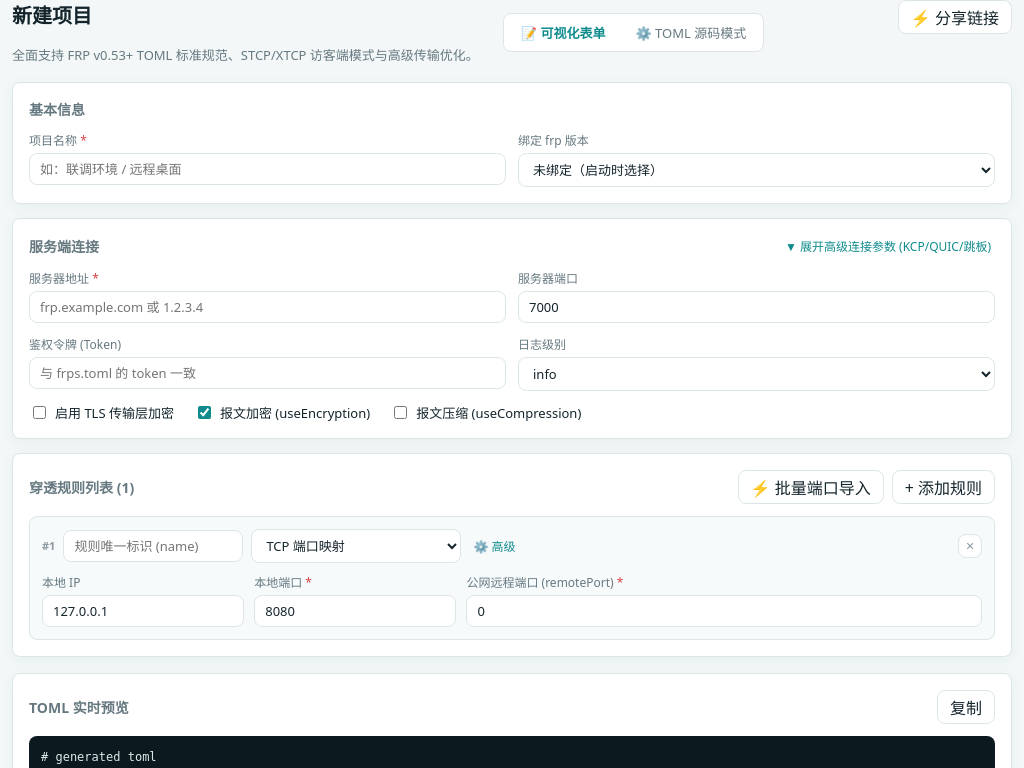
Test: FrpcProjectEditor 批量端口 › 区间跨度 >100 拒绝
Click the button "⚡ 批量端口导入" at (811,487), box [738, 470, 884, 504]
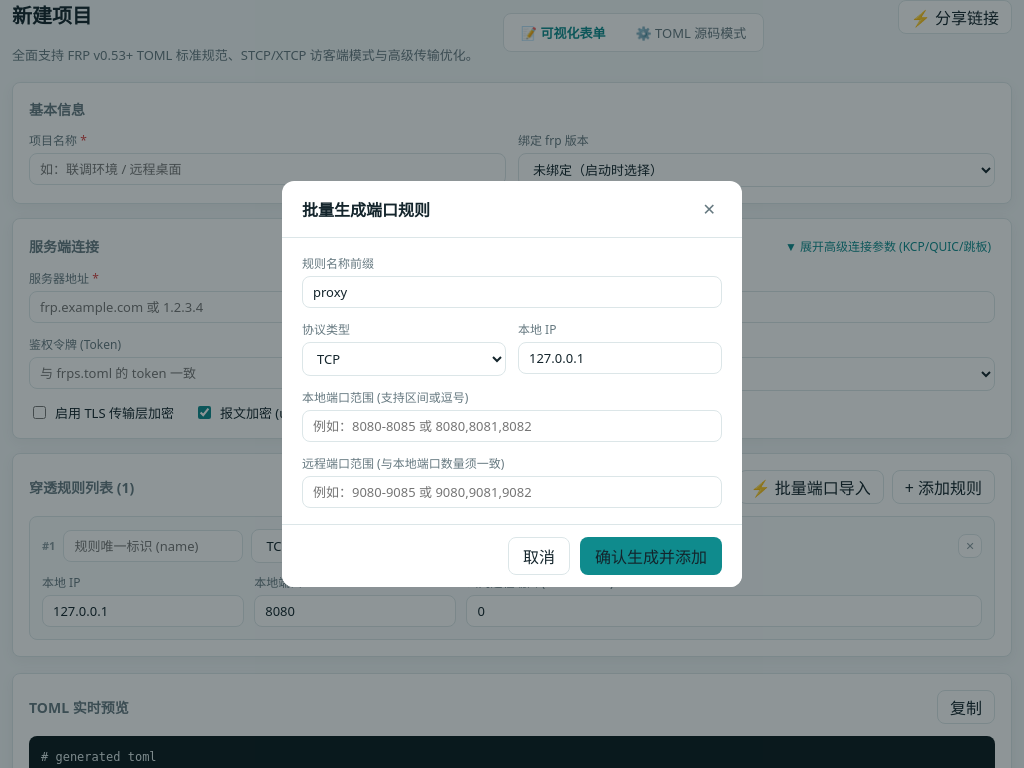
Type "1000-1200" into the field labelled "本地端口范围 (支持区间或逗号)" at (512,426), box [302, 410, 722, 442]
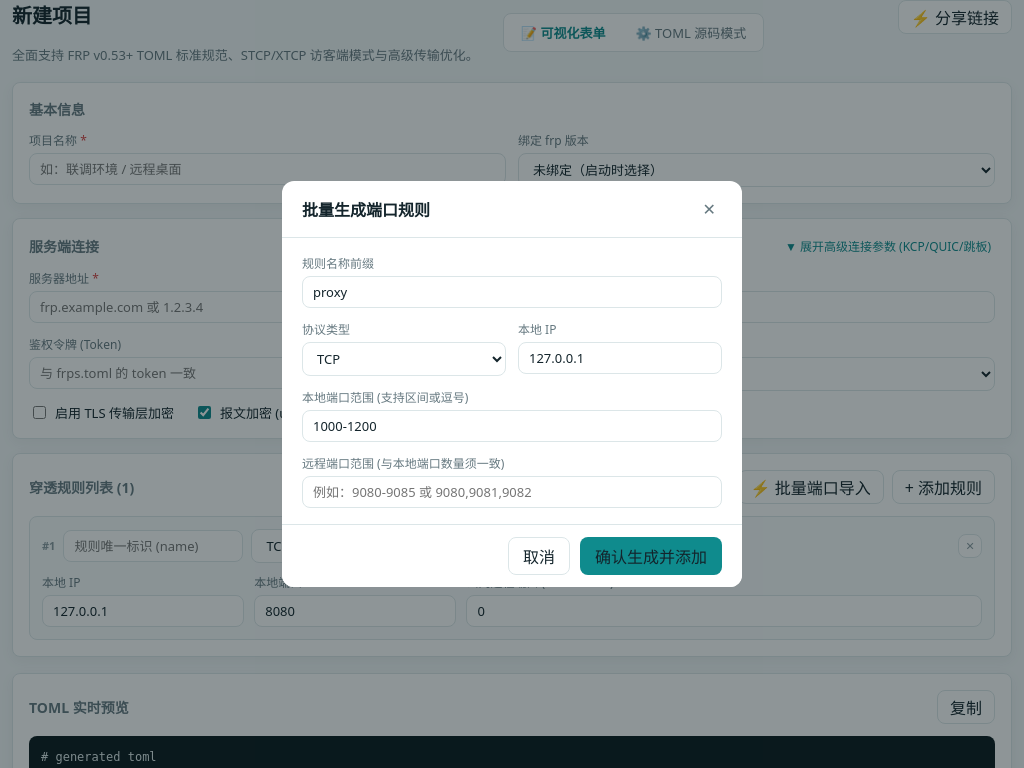
Type "2000-2200" into the field labelled "远程端口范围 (与本地端口数量须一致)" at (512,492), box [302, 476, 722, 508]
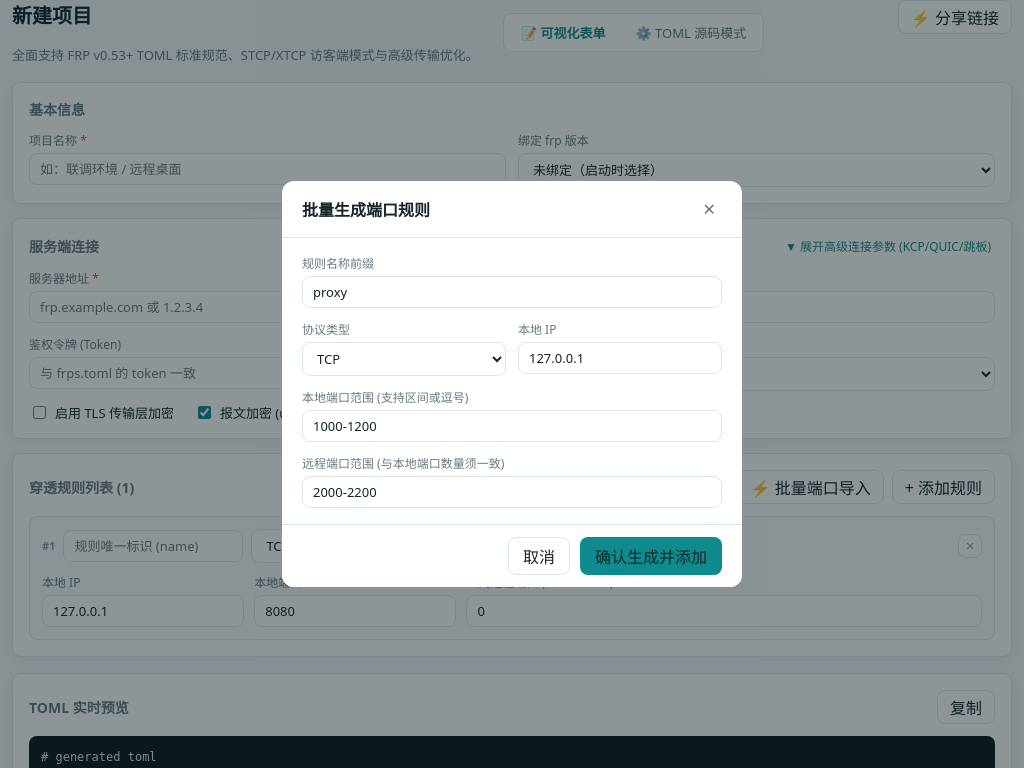
Click the button "确认生成并添加" at (651,556), box [580, 537, 722, 575]
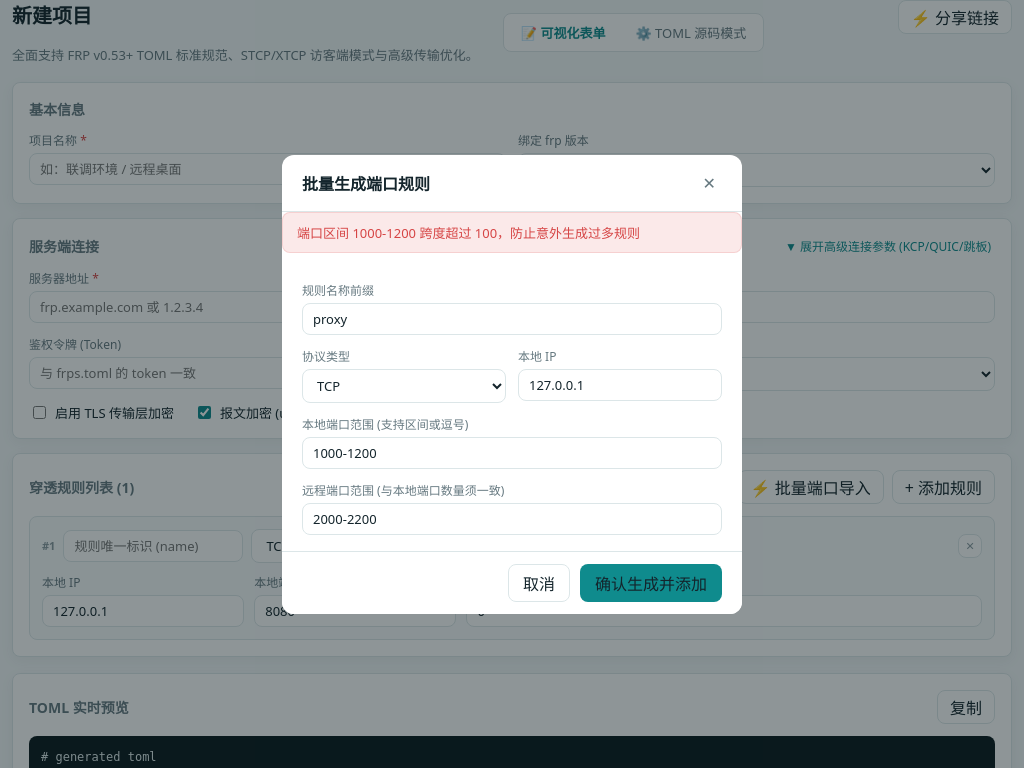
Expected: the text with class "error-box" shows "跨度超过 100", [297, 224, 640, 242]
